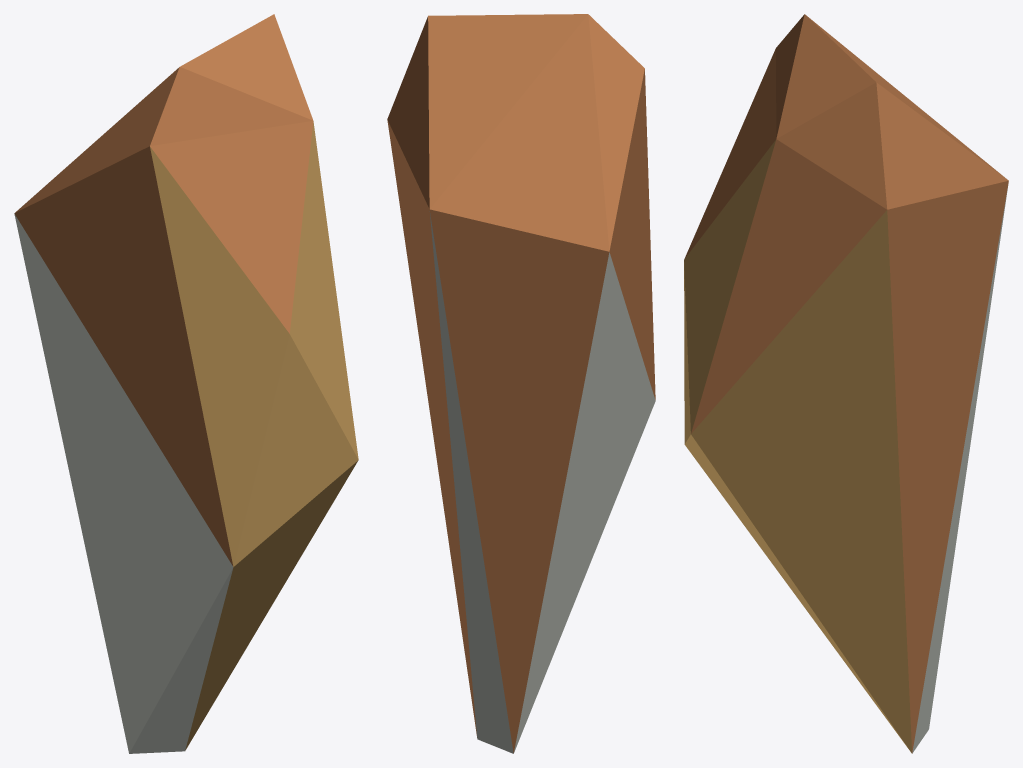
The model's file is BirchTree_Autumn_2.lod4.glb.
The picture shows the model from 3 angles, left to right: view 1: azimuth 30°, elevation 25°; view 2: azimuth 150°, elevation 25°; view 3: azimuth 270°, elevation 25°; orthographic projection. The views are drawn at different scales.
Visible parts, largest first — view 1: BirchTree_Autumn_2; view 2: BirchTree_Autumn_2; view 3: BirchTree_Autumn_2.
Part boxes in pixels (left/top/right/bottom): BirchTree_Autumn_2: left=14, top=14, right=358, bottom=753; BirchTree_Autumn_2: left=387, top=14, right=655, bottom=753; BirchTree_Autumn_2: left=684, top=14, right=1008, bottom=753.
Bounding box in the file's own units: 1.52 × 4.09 × 1.69.
